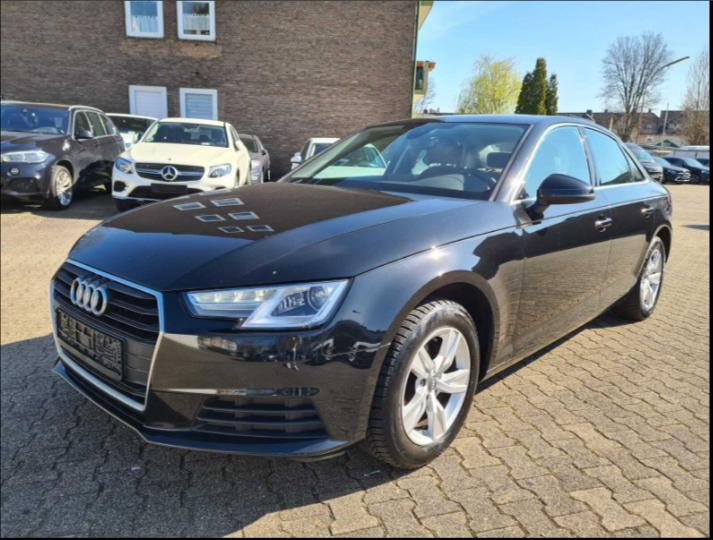Dent: (266, 320, 382, 365), (265, 233, 358, 267)
Missing part: (57, 310, 120, 377)
Paint chip: (349, 308, 362, 316)
